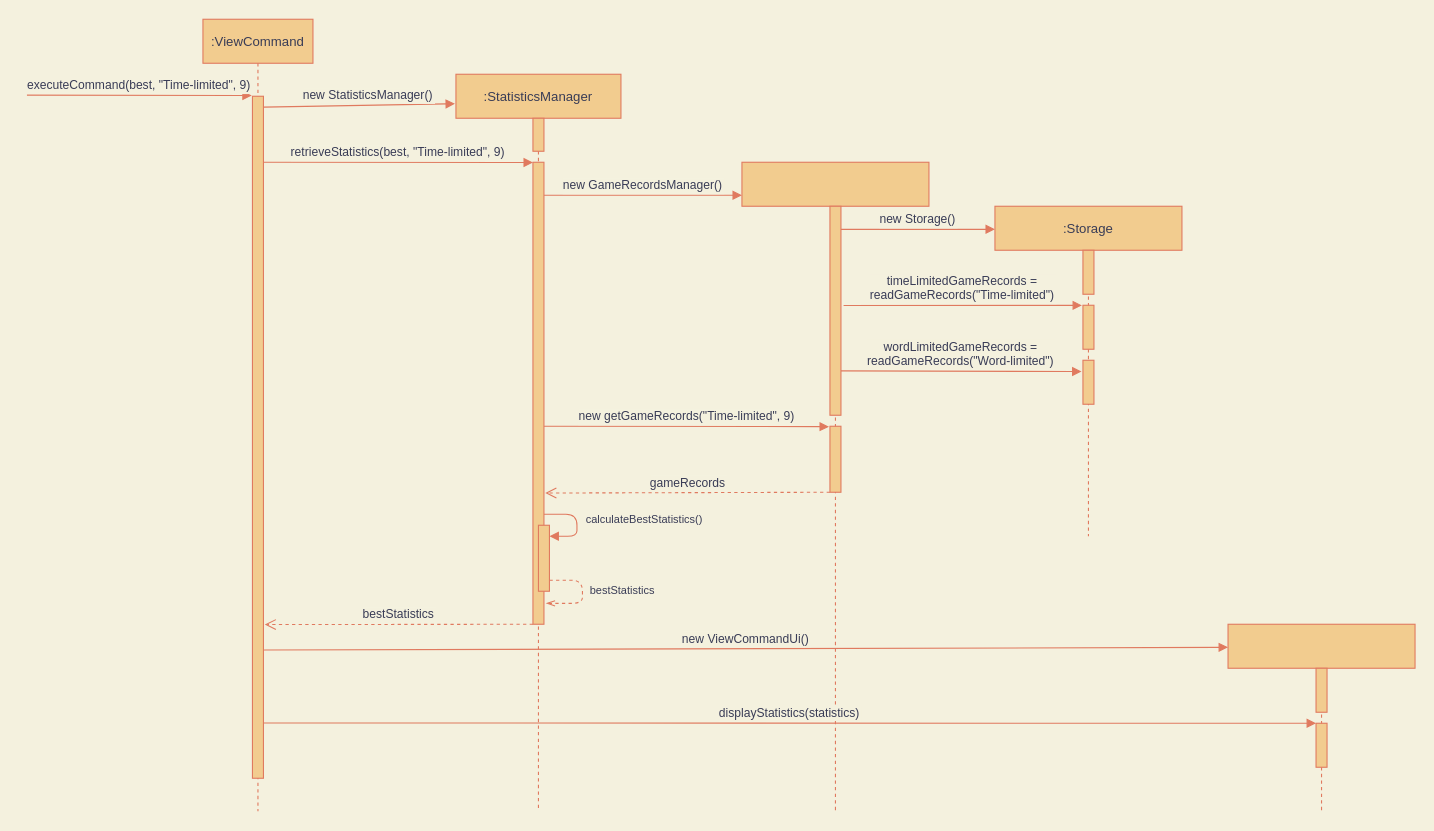
This 1434x831 diagram has some shape labels left out. The shapes that lost their labels are listed below. From the top down, each one's centre as x and y in pixels, then its label:
At point (835, 486): ":GameRecordsManager()".
At point (1321, 717): ":ViewCommandUi".
